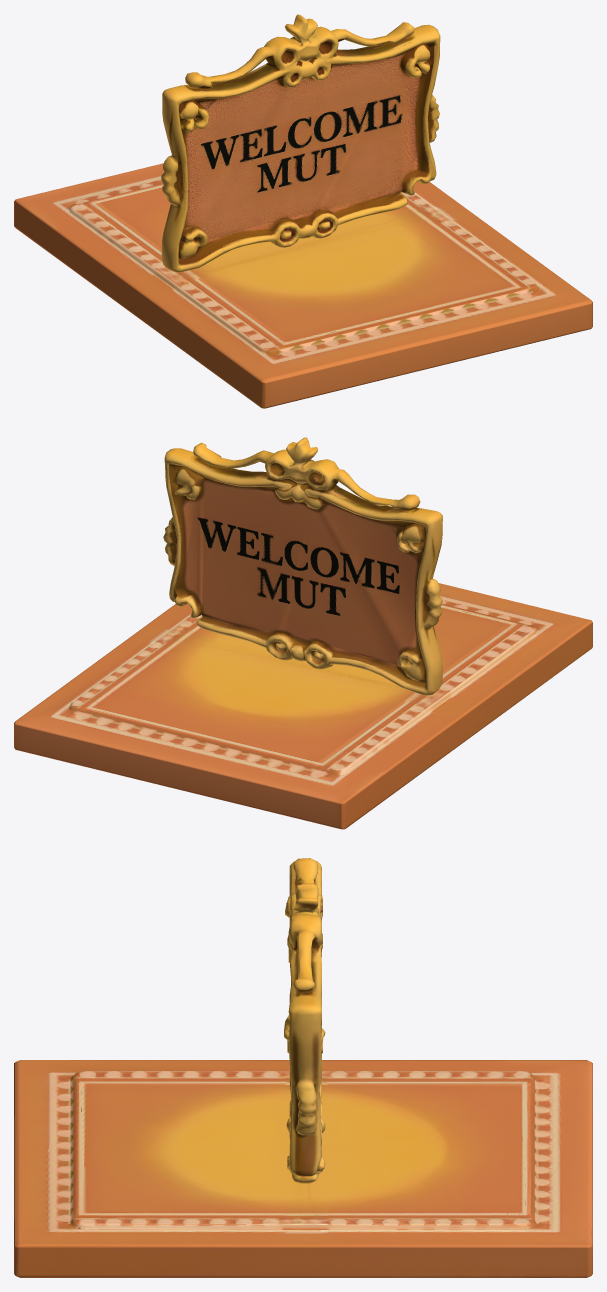
The model's file is award_doormat.glb.
3 renders of one model, top to bottom at view 1: azimuth 30°, elevation 25°; view 2: azimuth 150°, elevation 25°; view 3: azimuth 270°, elevation 25°, orthographic. The views are drawn at different scales.
Size of the model in its own units: 1.45 by 1.09 by 1.91.
1 material, 1 textured.
